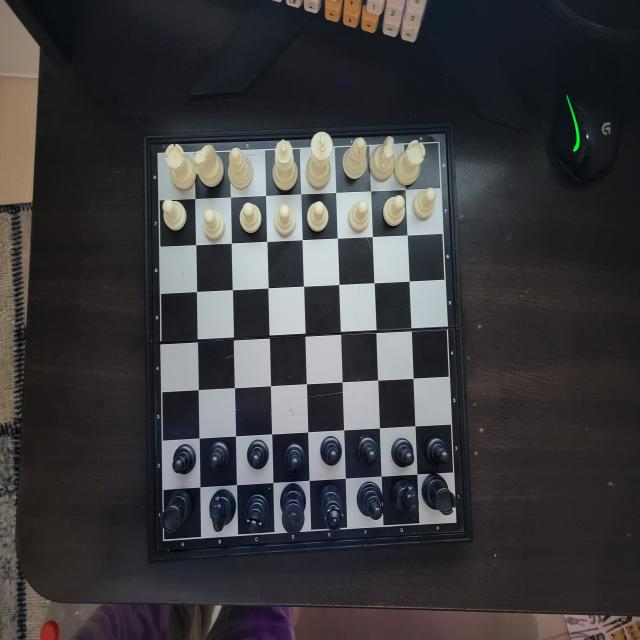black-bishop: (243, 491, 270, 535), (356, 481, 384, 523)
black-king: (280, 482, 306, 537)
black-knight: (390, 478, 420, 526), (209, 488, 236, 534)
black-pawn: (354, 431, 380, 468), (424, 435, 452, 469), (389, 436, 416, 469), (207, 439, 230, 475), (320, 435, 343, 470), (172, 443, 196, 476), (246, 438, 269, 472), (282, 442, 306, 473)
black-queen: (316, 483, 348, 535)
black-rook: (160, 490, 194, 537), (421, 472, 456, 517)
chess-board: (149, 137, 464, 546)
white-bishop: (342, 137, 368, 183), (228, 148, 254, 190)
white-king: (306, 130, 333, 190)
white-knight: (195, 144, 225, 188), (369, 137, 395, 182)
white-pawn: (162, 195, 188, 233), (347, 197, 372, 236), (238, 200, 263, 238), (272, 203, 298, 238), (382, 191, 406, 228), (306, 200, 331, 234), (413, 186, 437, 219), (203, 209, 225, 242)
white-queen: (272, 138, 298, 195)
white-rook: (164, 141, 194, 190), (396, 139, 426, 185)
